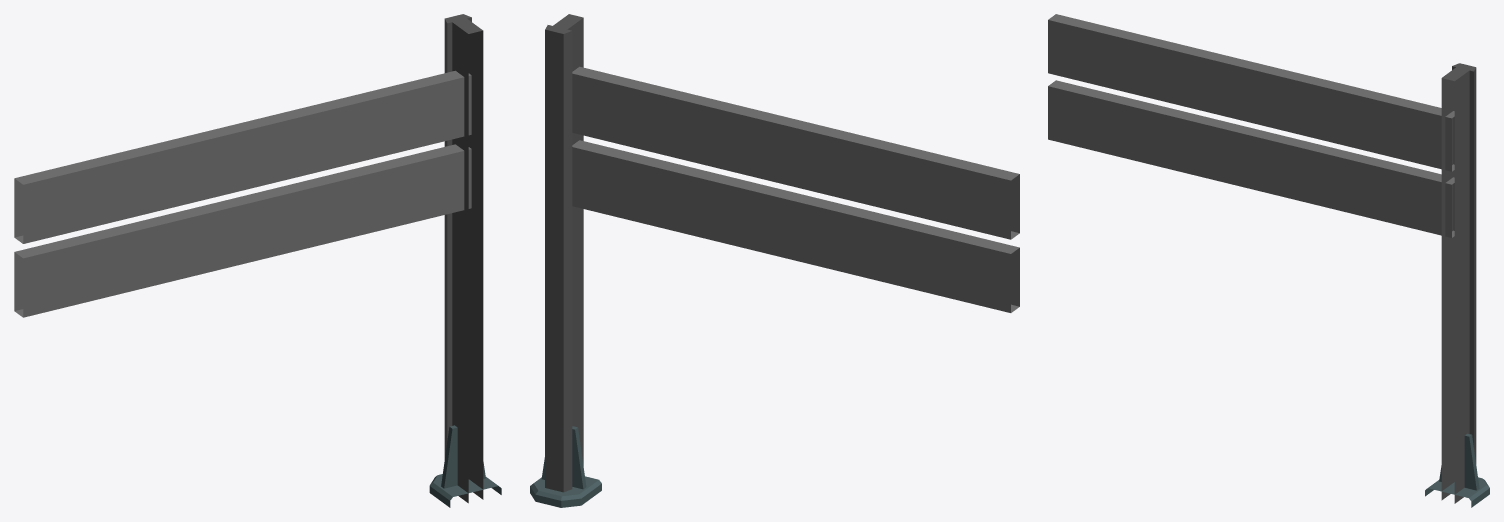
Rendered from SM_beam_01.fbx.
3 renders of one model, left to right at view 1: azimuth 30°, elevation 25°; view 2: azimuth 150°, elevation 25°; view 3: azimuth 330°, elevation 25°, orthographic. The views are drawn at different scales.
Visible parts, largest first — view 1: SM_beam_01; view 2: SM_beam_01; view 3: SM_beam_01.
Part boxes in pixels (x1,y1,x2,y2): SM_beam_01: [14, 14, 501, 507]; SM_beam_01: [530, 14, 1019, 507]; SM_beam_01: [1048, 14, 1489, 507].
Size of the model in its own units: 317 by 300 by 32.56.
Materials: 1 (1 with a texture image).
